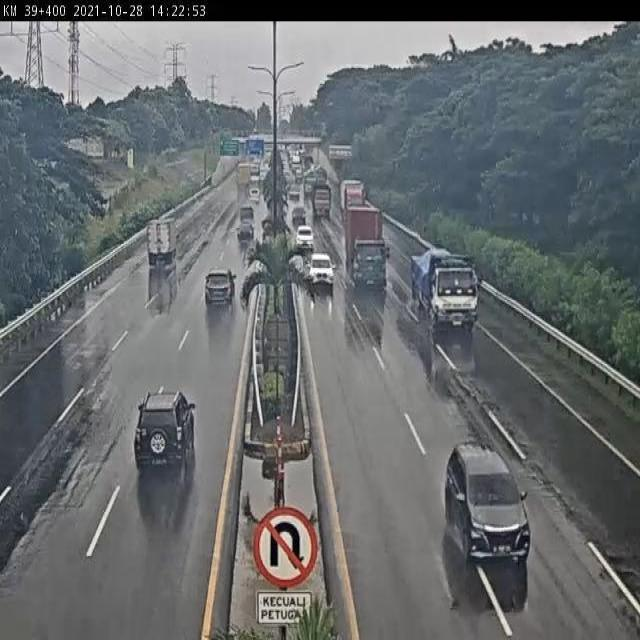Car: (442, 447, 533, 579), (134, 387, 198, 481), (202, 266, 236, 310), (308, 248, 338, 296), (295, 226, 319, 256), (234, 214, 254, 244), (289, 206, 309, 228)
Truck: (409, 244, 485, 329), (343, 200, 392, 292), (146, 214, 180, 269), (308, 175, 334, 220)
